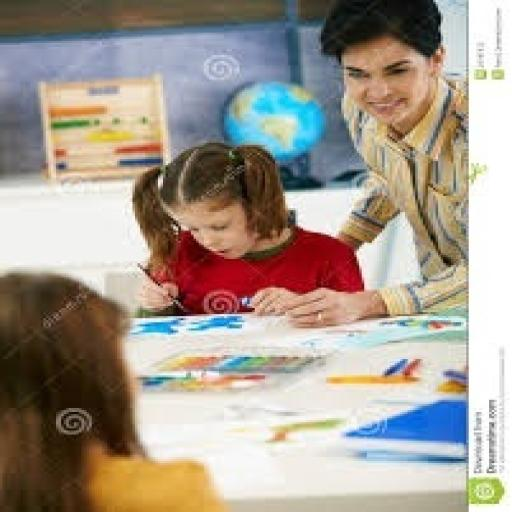sitting: (254, 0, 466, 328), (0, 269, 237, 510), (127, 139, 367, 320)
